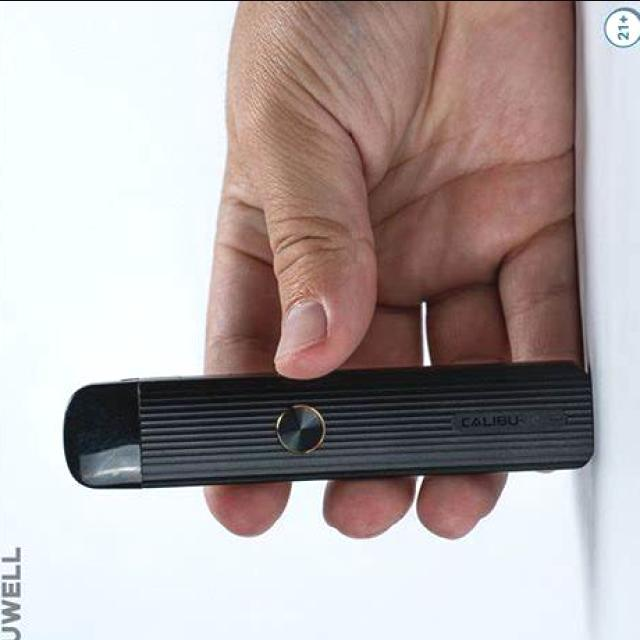Hazard: (59, 358, 598, 491)
